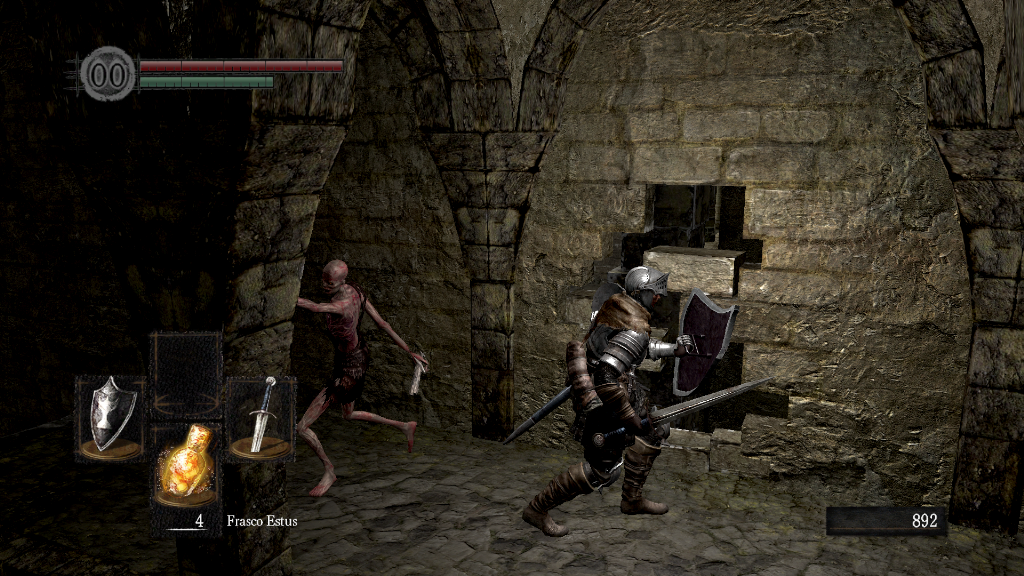health: (138, 58, 343, 71)
hollow: (288, 260, 430, 499)
humanity: (80, 45, 136, 102)
player: (503, 266, 775, 537)
souls: (825, 506, 945, 536)
stamina: (138, 74, 274, 88)
